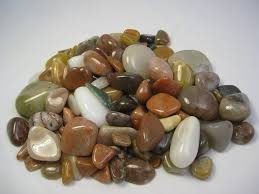obstacle: (7, 29, 253, 184)
